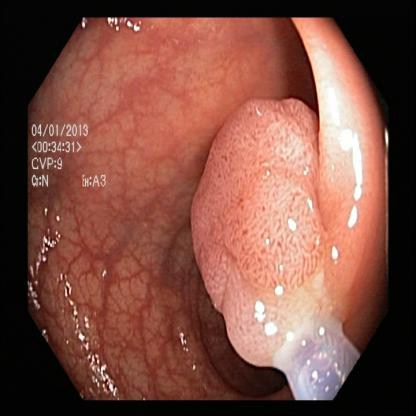Labels: (27, 114, 118, 198)
Polyps: (190, 63, 336, 350)
